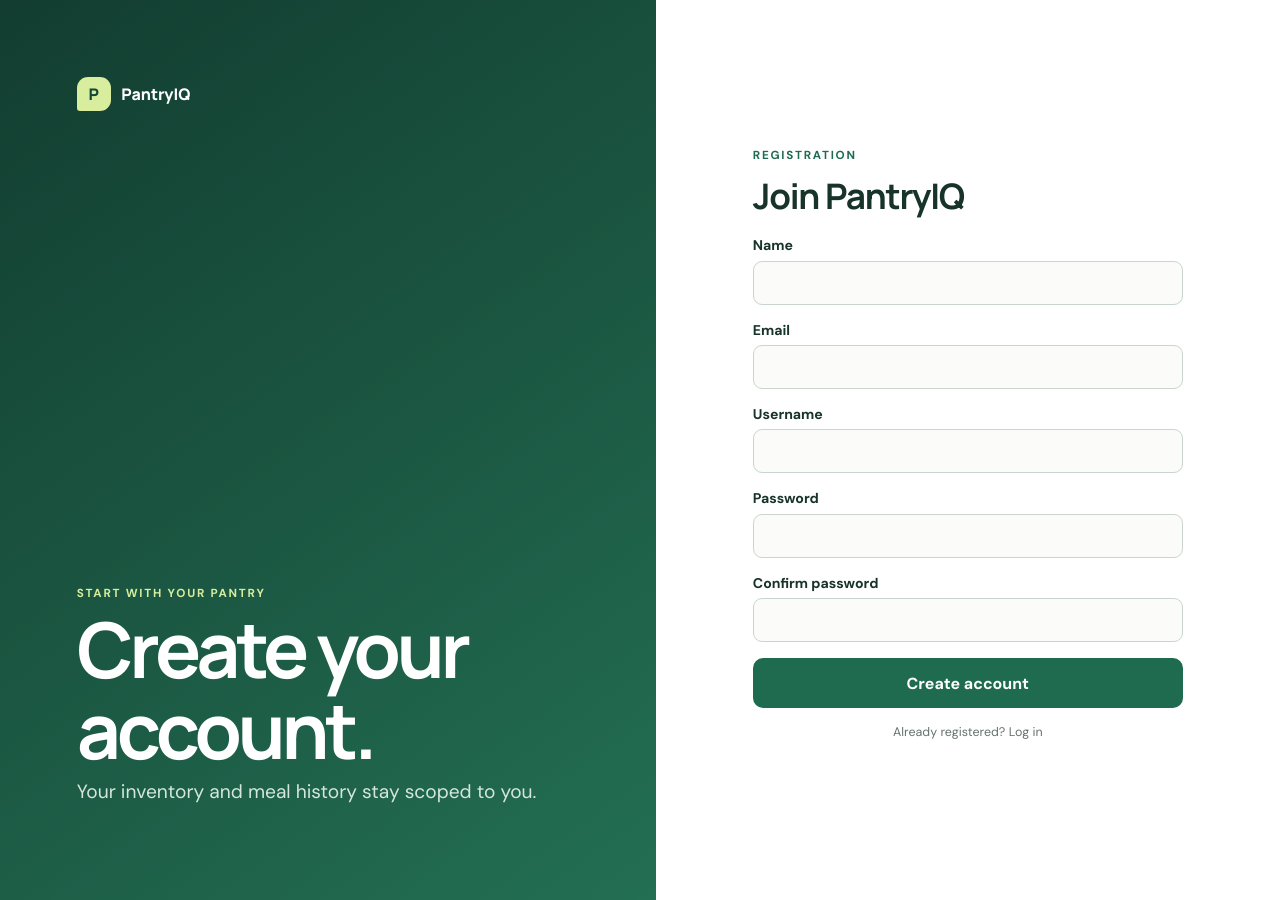
Scenario: authentication pages › submits registration and reports conflicts
This screenshot has width=1280, height=900.
In the field labelled "Name": point(968, 283) [753,261,1183,305], type "Example User"
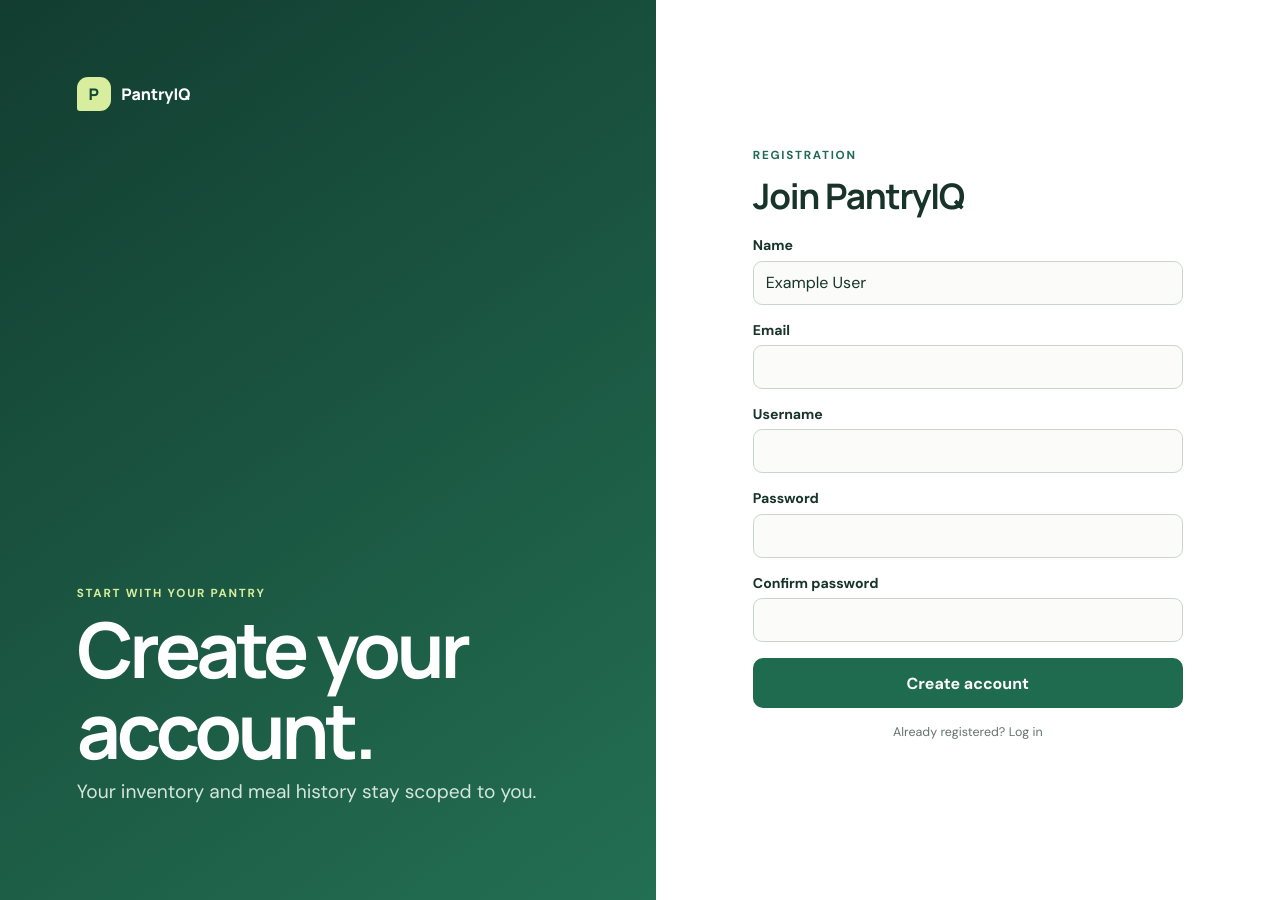
In the field labelled "Email": point(968, 367) [753,345,1183,389], type "user@example.com"
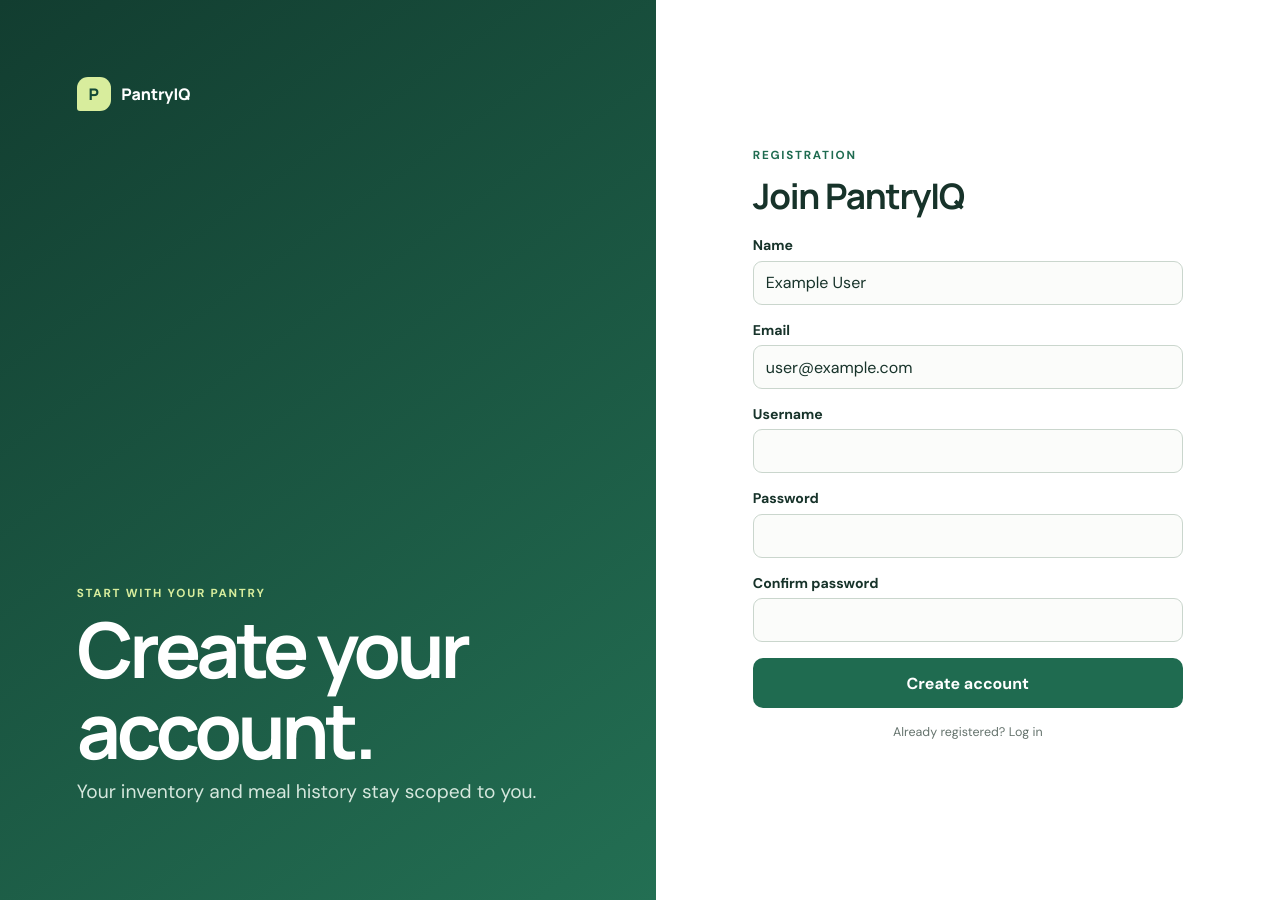
In the field labelled "Username": point(968, 452) [753,430,1183,474], type "example_user"
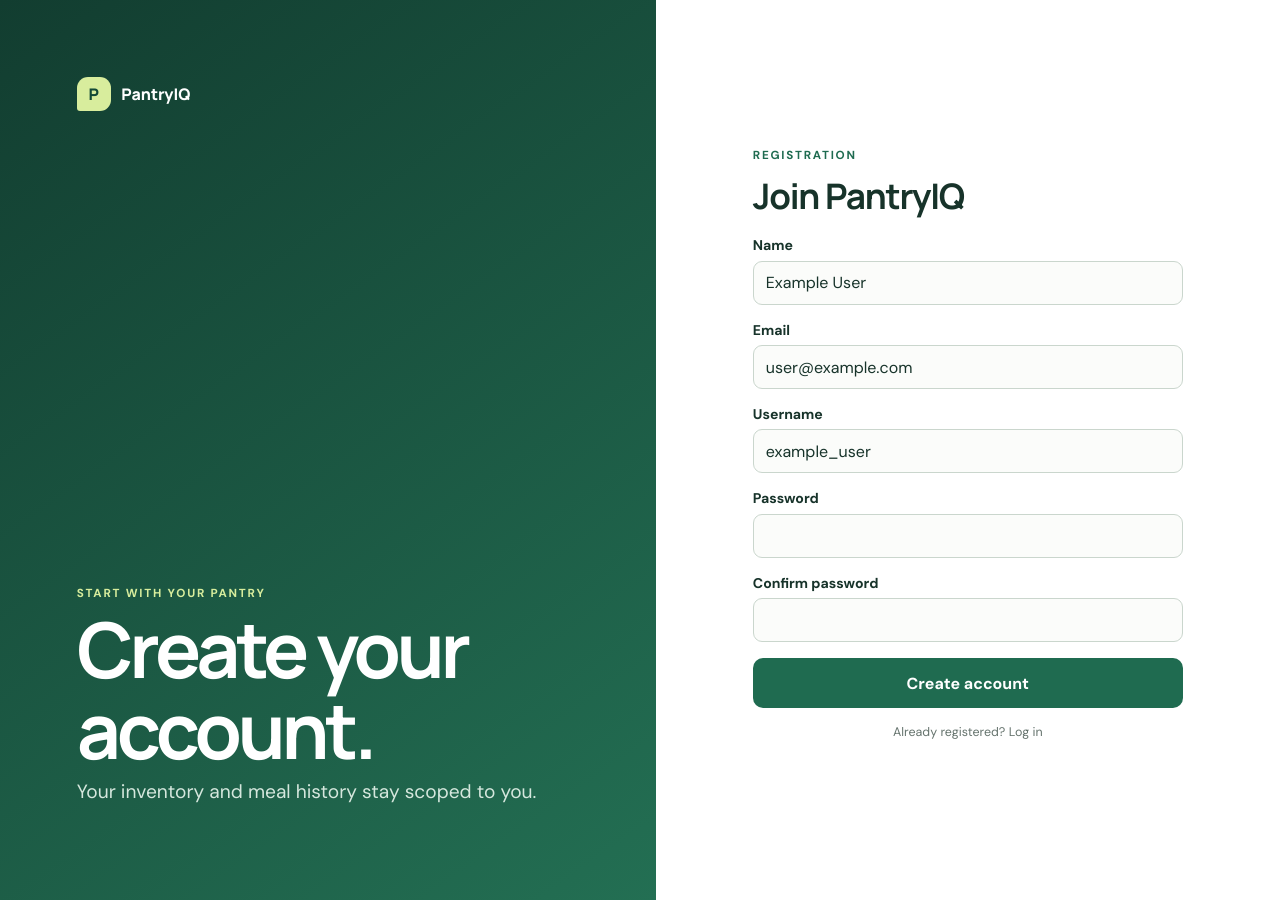
In the password field labelled "Password": point(968, 536) [753,514,1183,558], type "a secure password"
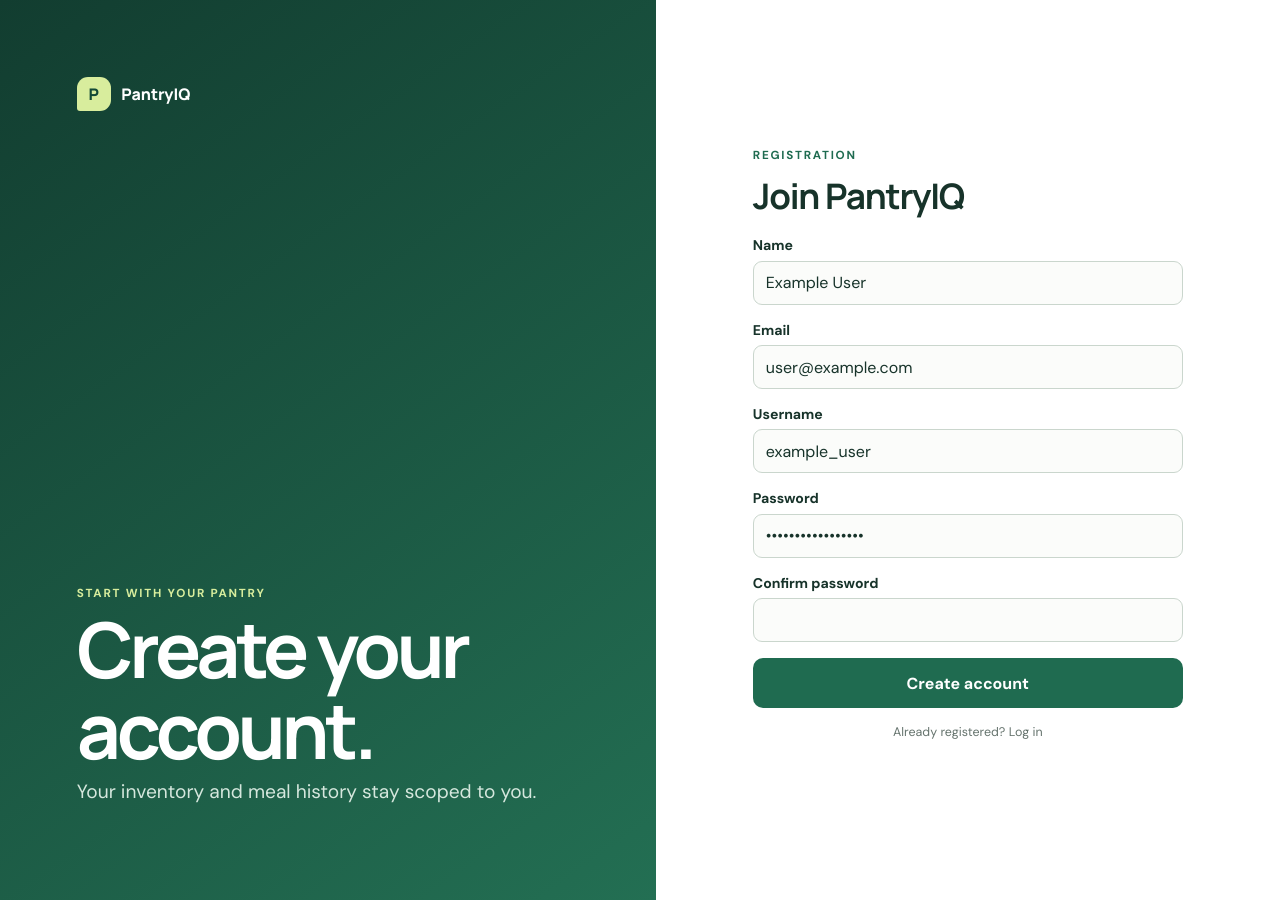
In the password field labelled "Confirm password": point(968, 620) [753,598,1183,642], type "a secure password"
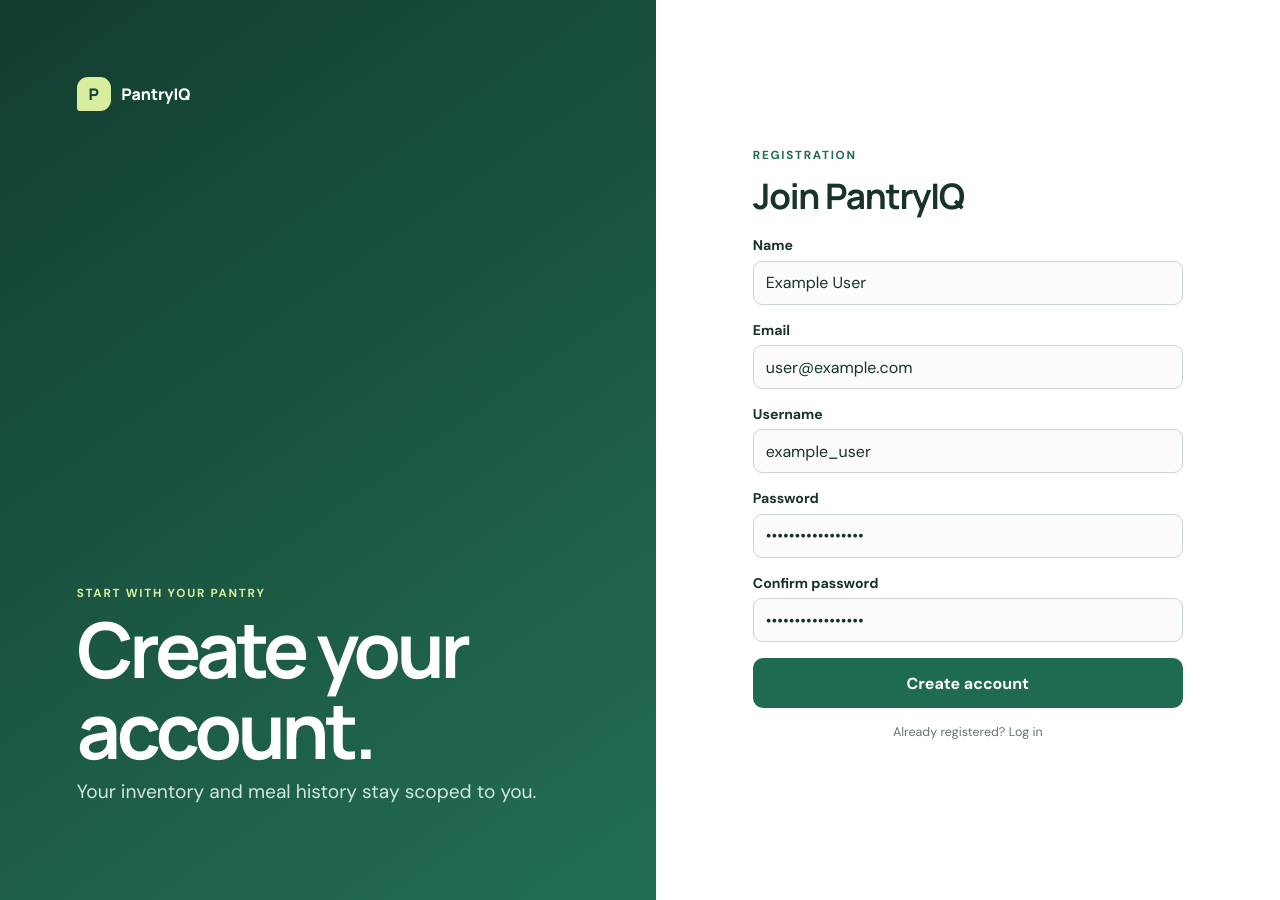
Click the button "Create account": point(968, 683) [753,658,1183,708]
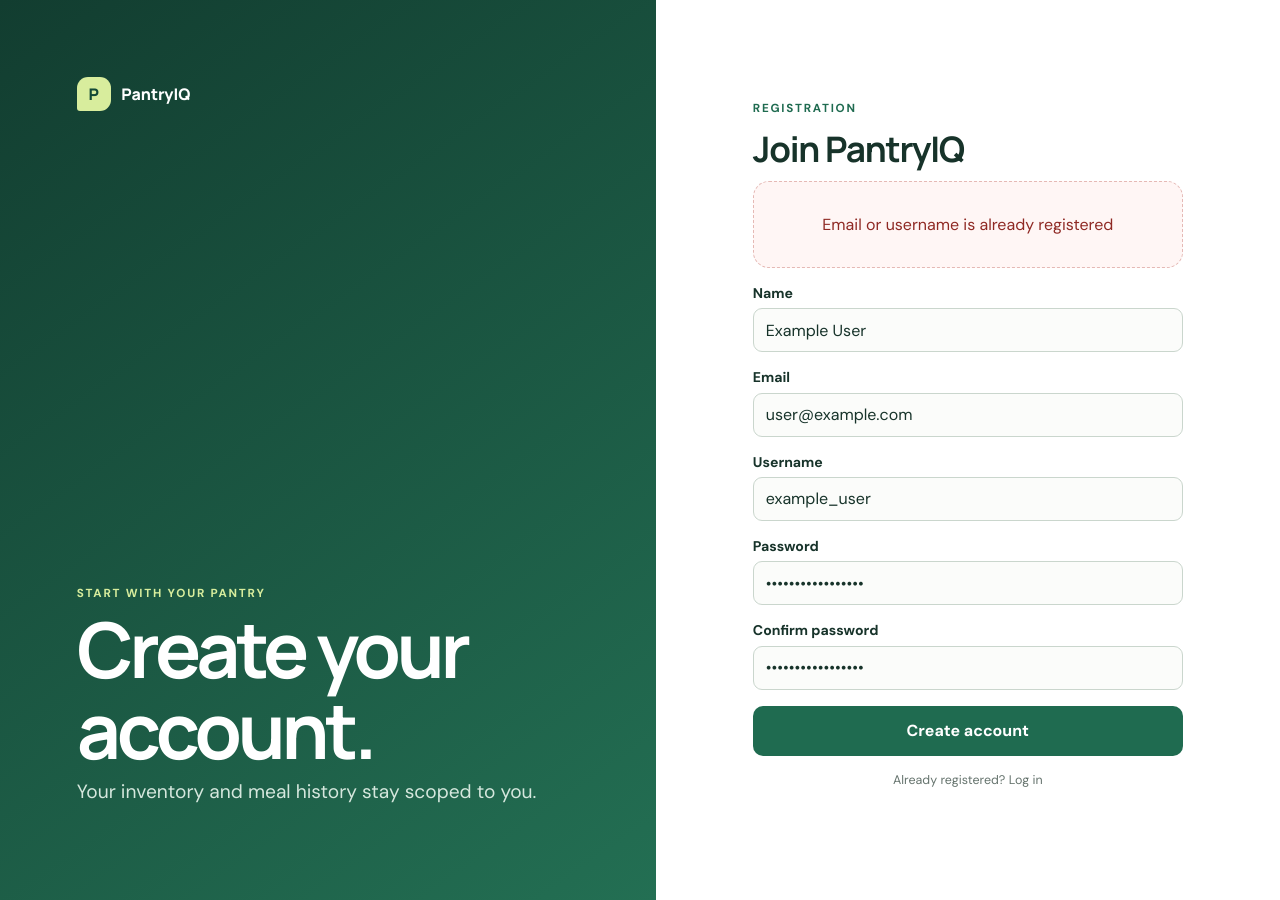
Expected: the message shows "already registered", [822,214,1113,235]
